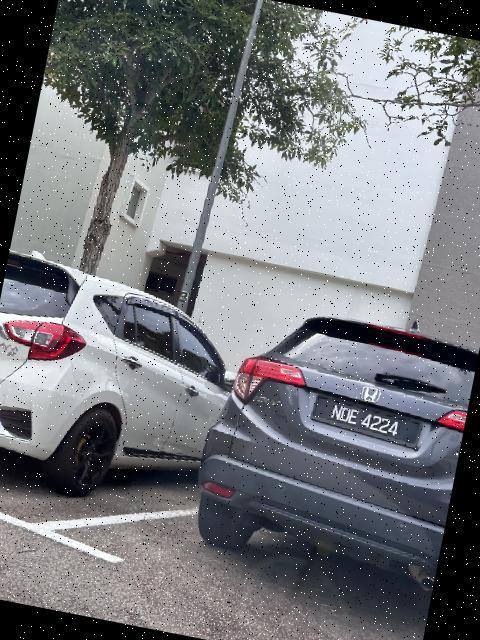License_Plate: (307, 390, 428, 457)
NDE4224: (307, 390, 428, 457)
car: (169, 286, 480, 636), (1, 246, 263, 521)
